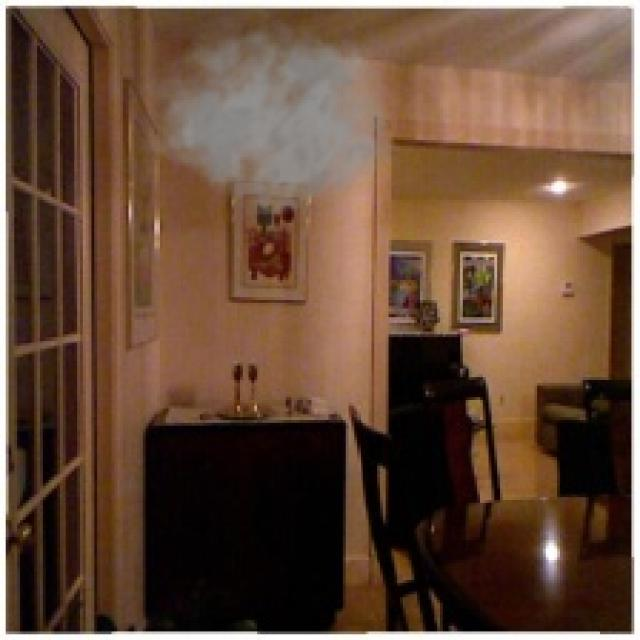smoke: (137, 3, 400, 217)
